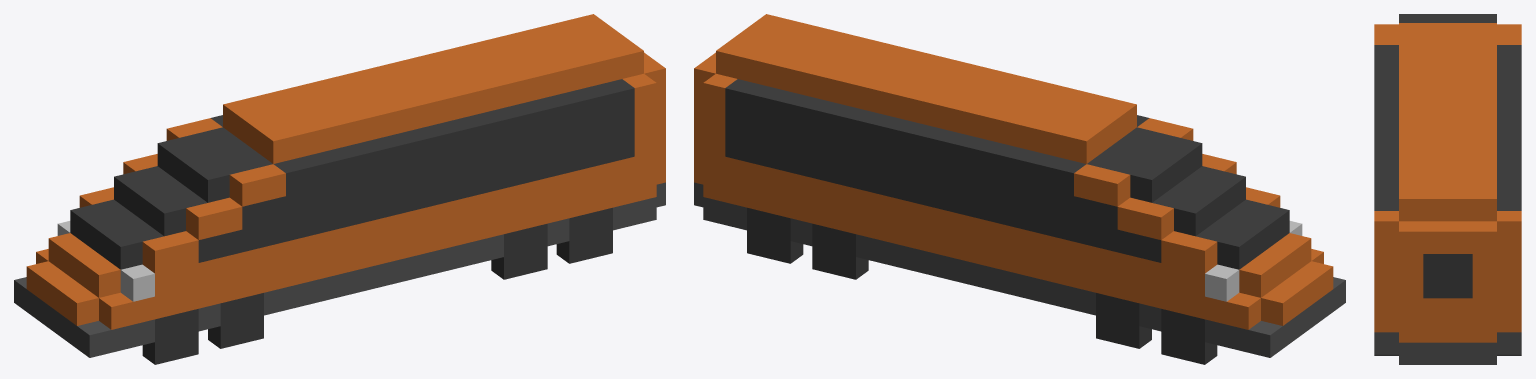
File: train-v1-orange.gltf
The picture shows the model from 3 angles, left to right: view 1: azimuth 30°, elevation 25°; view 2: azimuth 150°, elevation 25°; view 3: azimuth 270°, elevation 25°; orthographic projection. The views are drawn at different scales.
Parts seen in each view (by area): view 1: model, wheels; view 2: model, wheels; view 3: model.
Boxes of the visible parts, x1,y1,x2,y2 form: model: (14,14,665,357); wheels: (142,207,612,364); model: (694,14,1345,357); wheels: (747,207,1217,364); model: (1374,14,1521,364).
Size of the model in its own units: 2.7 by 0.8 by 0.6.
Materials: 2 (2 with a texture image).
